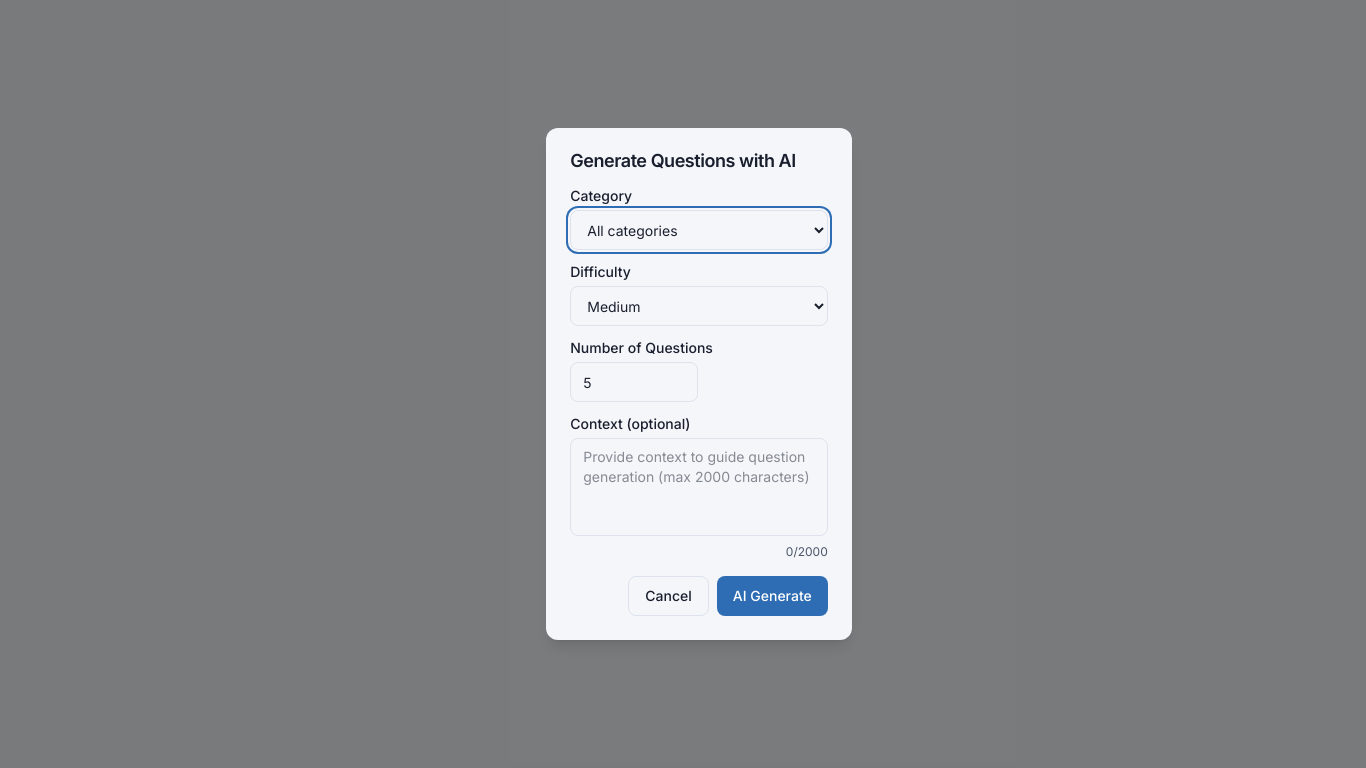
AIGenerateDialog › form › shows a category error and makes no request when generating without a category
Click the button "AI Generate". click: coordinates (772, 596)
box: [717,576,828,616]
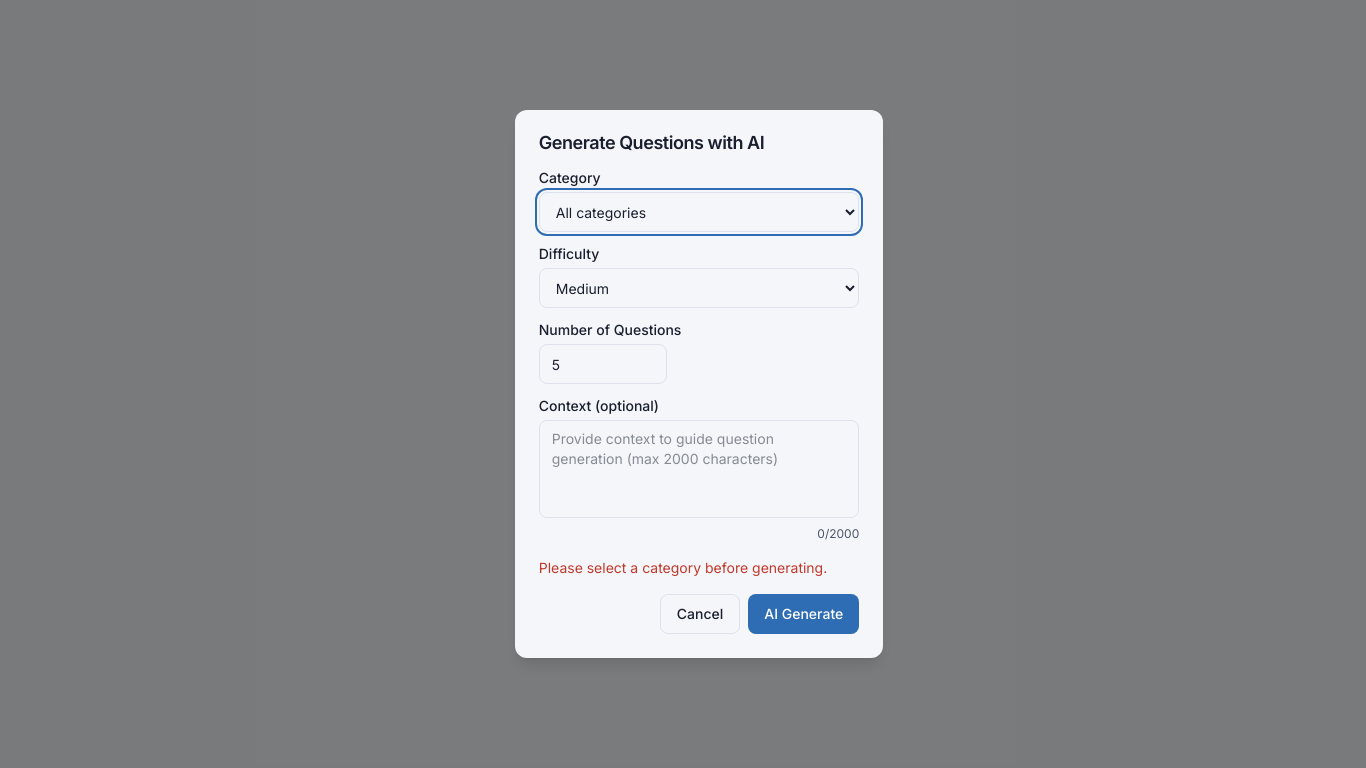
expect the text "Please select a category before generating." is shown: met, box [539,558,859,578]
